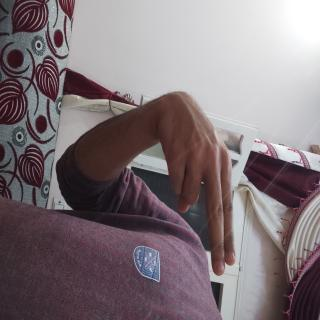AYN: (63, 104, 216, 223)
